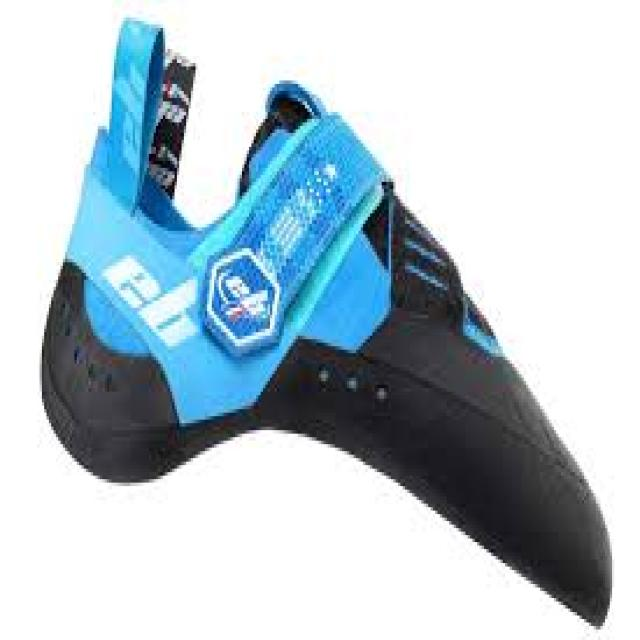climbing-shoes: (41, 18, 613, 632)
